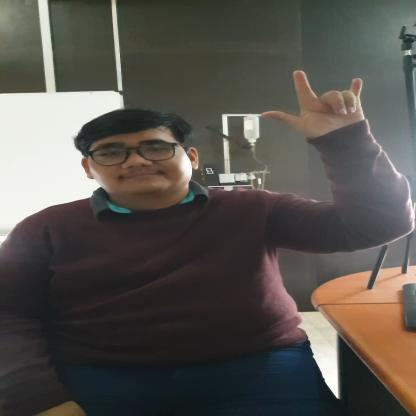ILoveYou: (262, 67, 372, 144)
